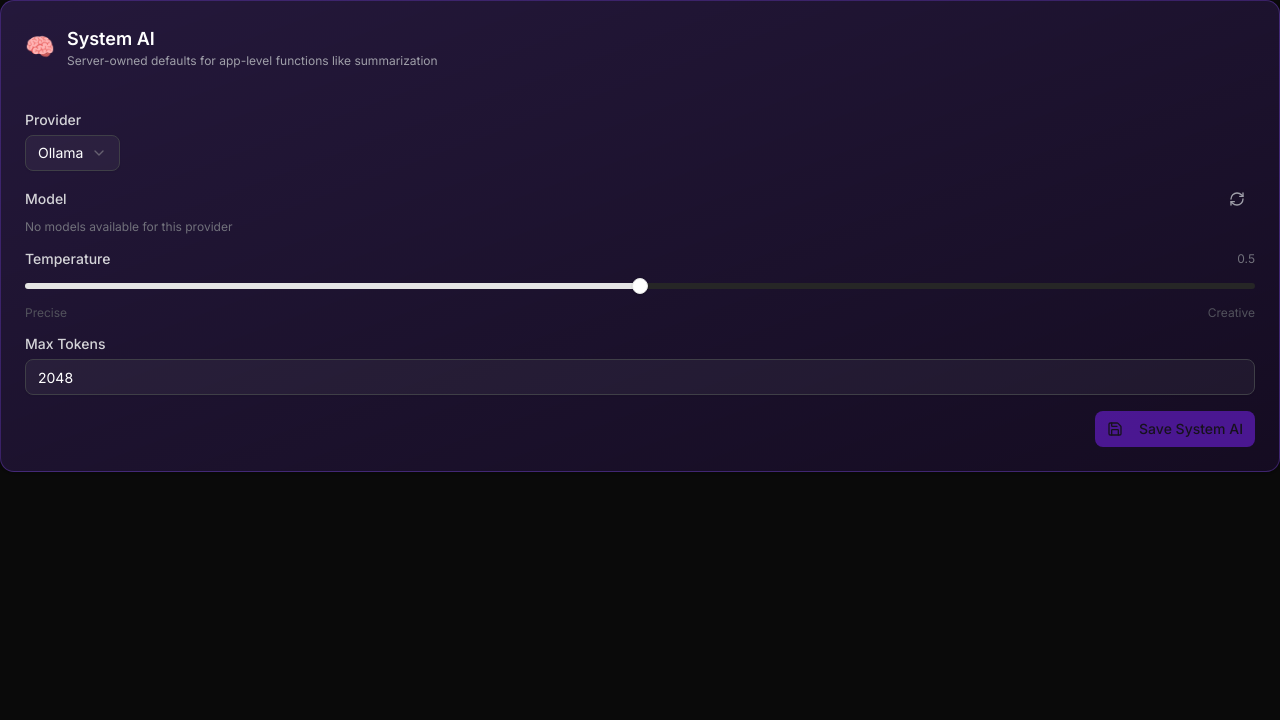
Test: SystemAiCard › refuses to submit an out-of-range policy
Replace the text in the number field labelled "Max Tokens" with "10" at (640, 377), box x1=25 y1=359 x2=1255 y2=395
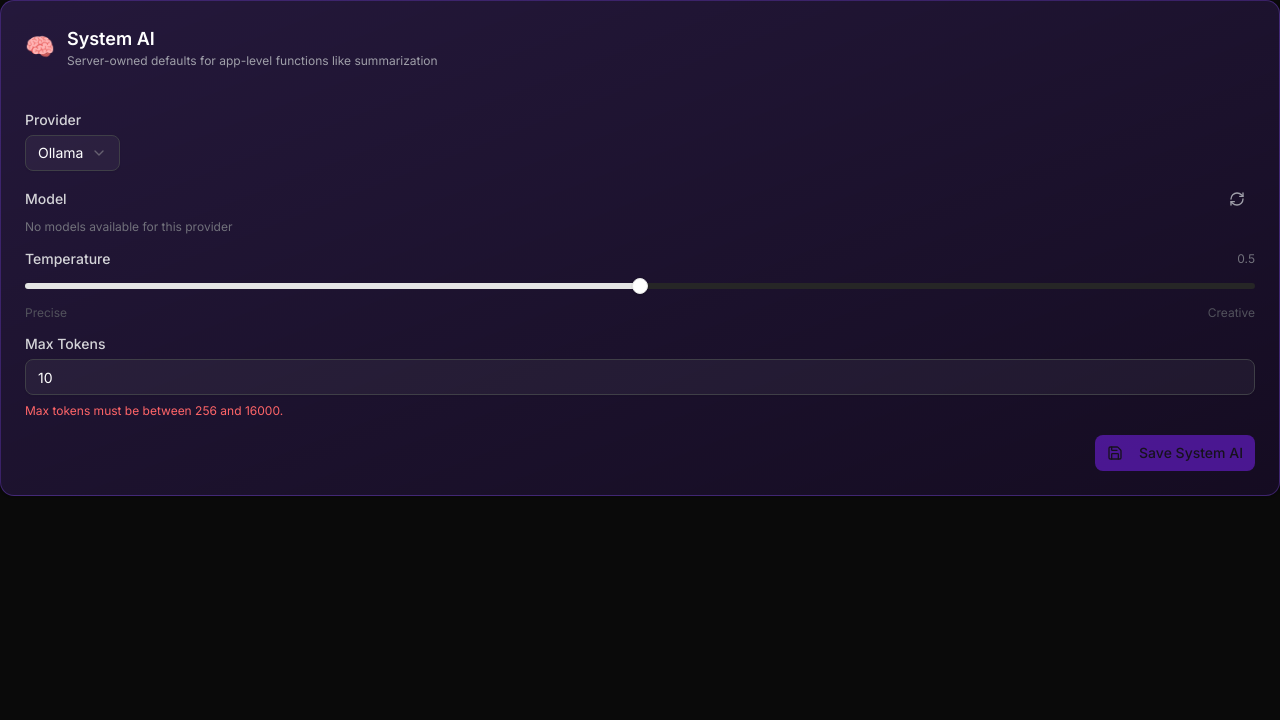
Expected: the button "Save System AI" is disabled, x1=1095 y1=435 x2=1255 y2=471
Now the text "Max tokens must be between 256 and 16000." is shown, box x1=25 y1=403 x2=283 y2=418
